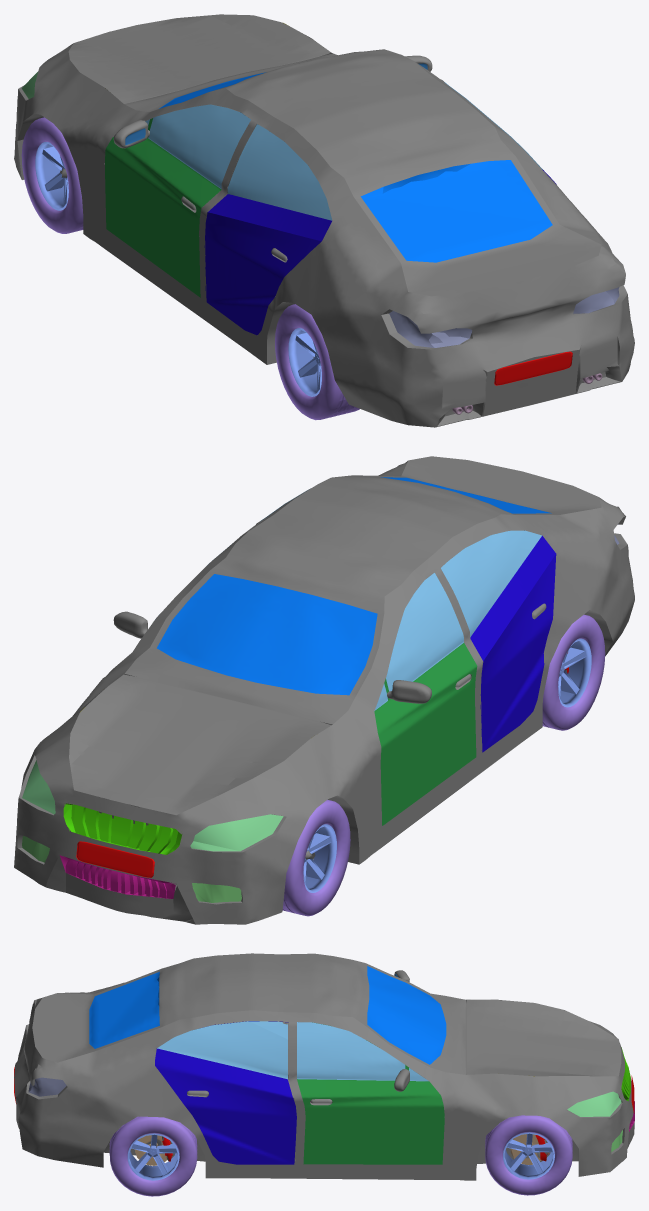
The model's file is CAR_NEW.fbx.
3 renders of one model, top to bottom at view 1: azimuth 30°, elevation 25°; view 2: azimuth 150°, elevation 25°; view 3: azimuth 270°, elevation 25°, orthographic. The views are drawn at different scales.
Visible parts, largest first — view 1: main_body, front_door_left, back_door_left, hood, wheel3, wheel4; view 2: main_body, hood, front_door_left, back_door_left, wheel4, wheel3, door_front_right; view 3: main_body, door_front_right, back_door_right, hood, wheel2, wheel.
Part boxes in pixels (box(x1,y1,x2,y2)): main_body: box(14, 23, 634, 427); front_door_left: box(105, 104, 250, 297); back_door_left: box(204, 124, 332, 335); hood: box(68, 14, 331, 103); wheel3: box(275, 304, 359, 420); wheel4: box(21, 117, 83, 233); main_body: box(14, 456, 634, 924); hood: box(69, 674, 331, 815); front_door_left: box(374, 573, 477, 825); back_door_left: box(440, 530, 556, 752); wheel4: box(282, 799, 350, 916); wheel3: box(542, 614, 605, 730); door_front_right: box(113, 543, 232, 638); main_body: box(14, 953, 634, 1180); door_front_right: box(297, 1022, 444, 1164); back_door_right: box(155, 1021, 297, 1164); hood: box(465, 999, 621, 1076); wheel2: box(109, 1116, 197, 1196); wheel: box(485, 1115, 572, 1195).
Size of the model in its own units: 26.79 by 18.7 by 61.81.
